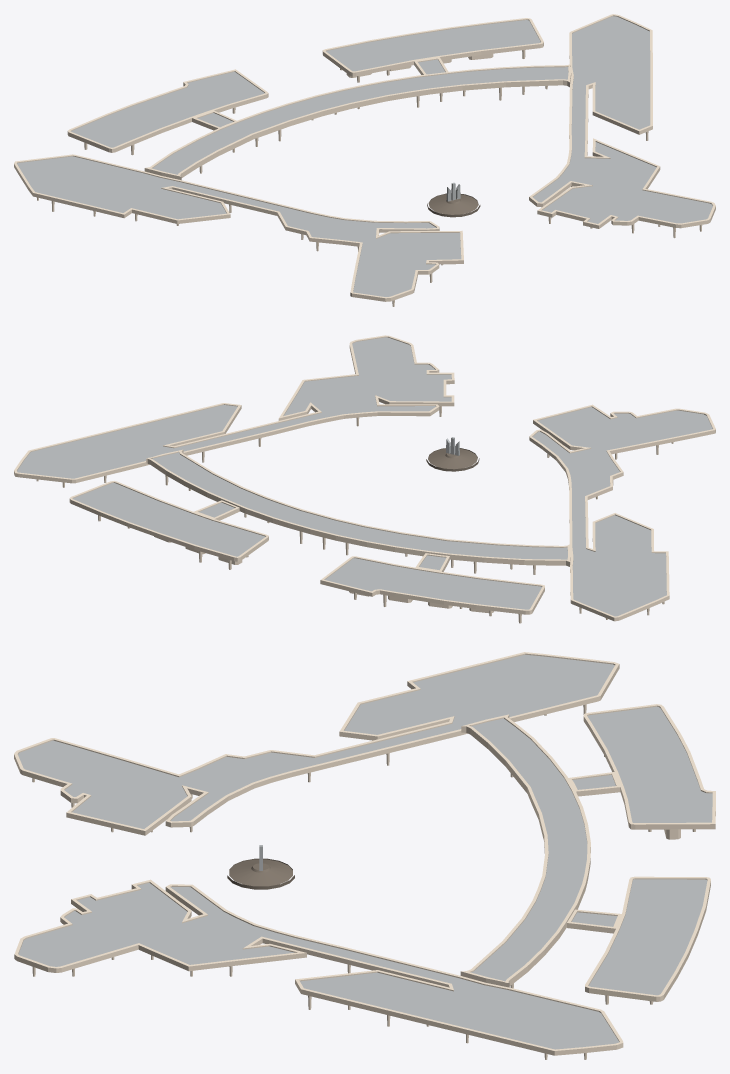
File: detail.glb
3 views of the same model, one above another, from view 1: azimuth 30°, elevation 25°; view 2: azimuth 150°, elevation 25°; view 3: azimuth 270°, elevation 25° (orthographic). The views are drawn at different scales.
Visible parts, largest first — view 1: epcot-entrance-walt-disney-world; view 2: epcot-entrance-walt-disney-world; view 3: epcot-entrance-walt-disney-world.
Boxes of the visible parts, x1,y1,x2,y2 form: epcot-entrance-walt-disney-world: (14, 14, 715, 306); epcot-entrance-walt-disney-world: (14, 335, 715, 623); epcot-entrance-walt-disney-world: (14, 652, 715, 1059).
Size of the model in its own units: 192 by 6.6 by 143.
